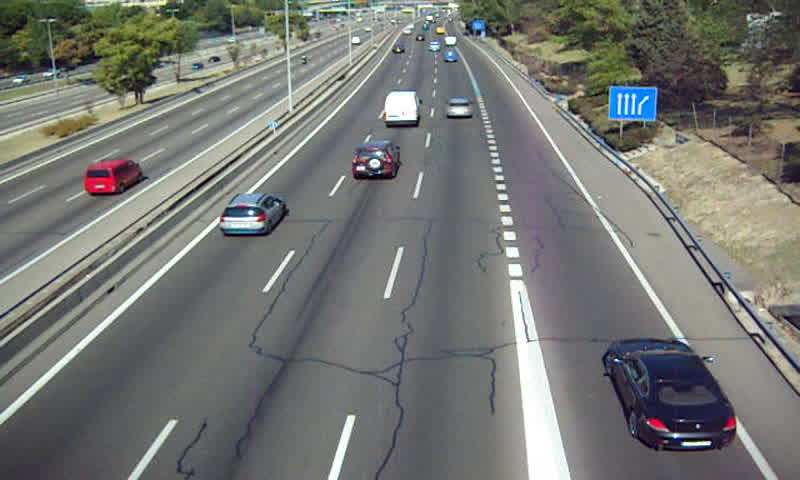car: (604, 339, 737, 449), (219, 193, 284, 236), (353, 141, 400, 180), (445, 98, 473, 118)
van: (384, 91, 423, 126)
